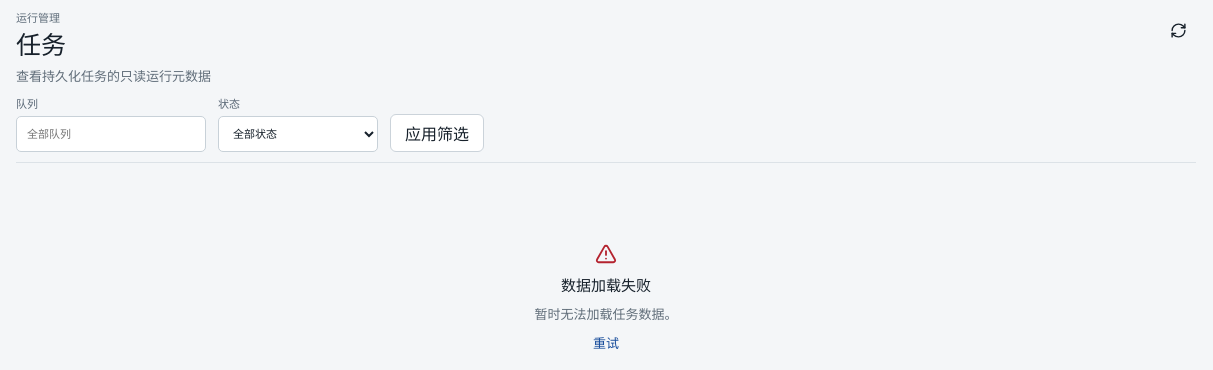
Test: Tasks view › renders a recoverable failure state
The image size is (1213, 370).
Expected: the text "暂时无法加载任务数据。" is shown, [534,304,678,323]
Step 1. Click the button "重试" → [606, 343], box [587,332,625,353]
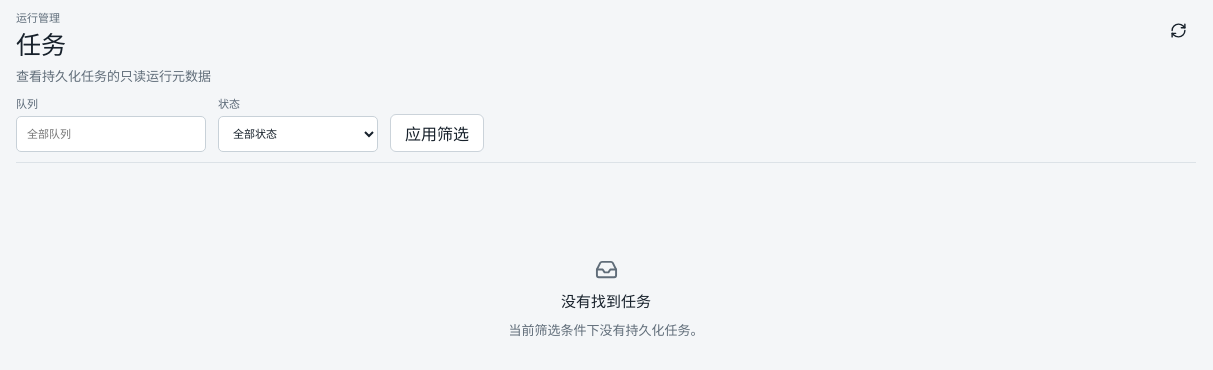
Now the text "没有找到任务" is shown, box [561,290,651,311]
